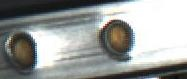joints: (97, 17, 137, 58), (1, 28, 39, 71)
